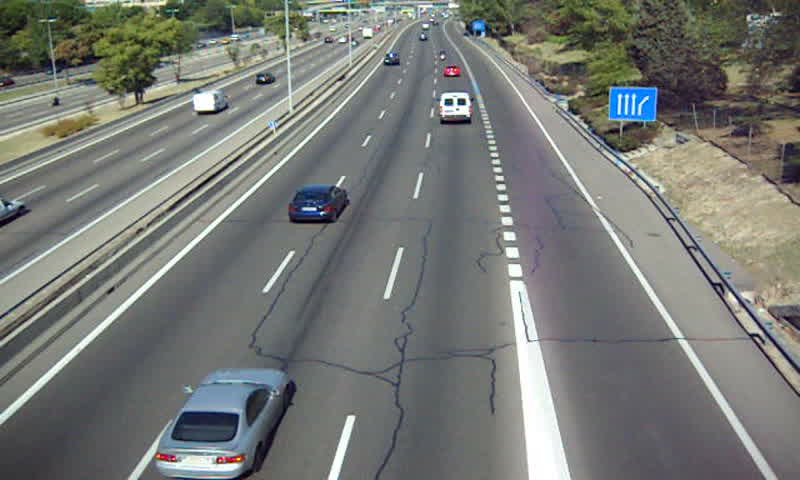car: (157, 369, 289, 478), (287, 184, 346, 223), (442, 66, 462, 80), (382, 53, 400, 68)
van: (439, 93, 471, 123)
